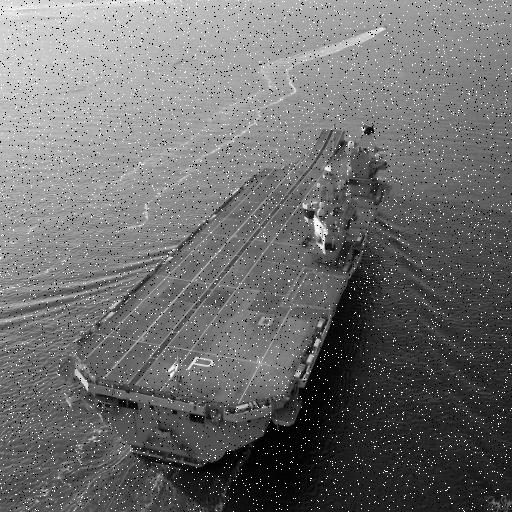Portanaves: (55, 116, 399, 488)
